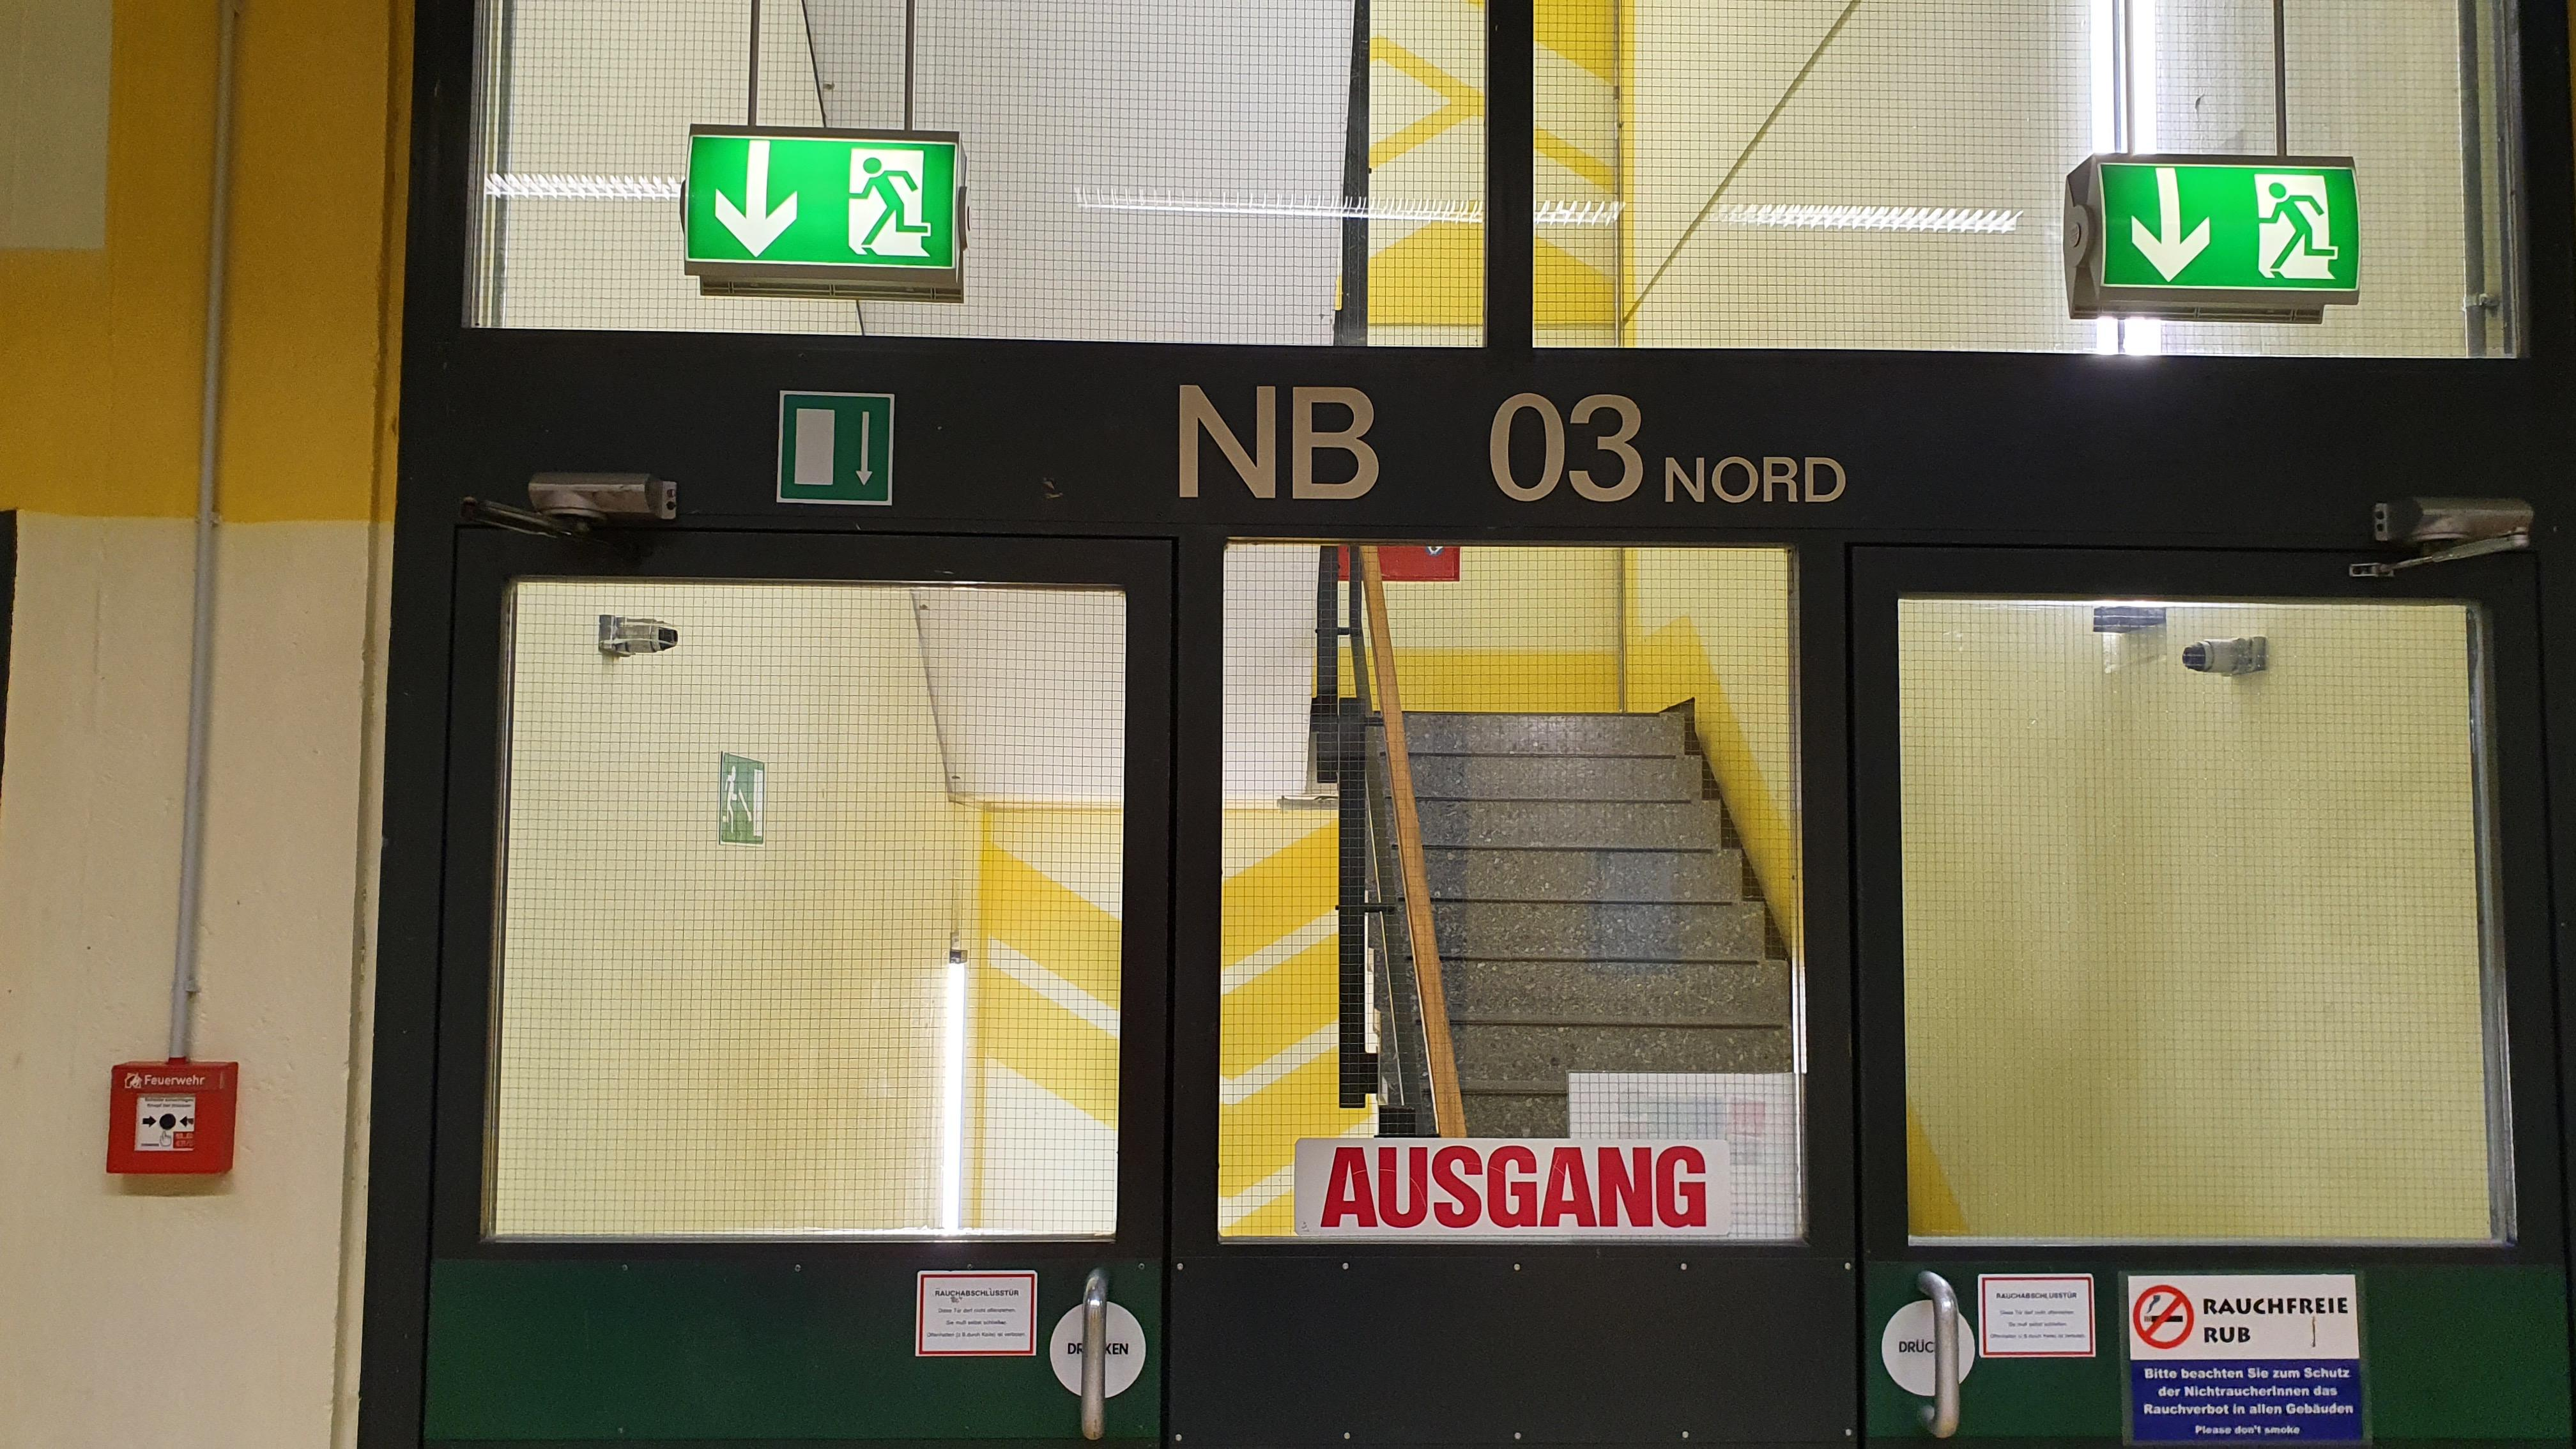call_point: (104, 1060, 239, 1175)
